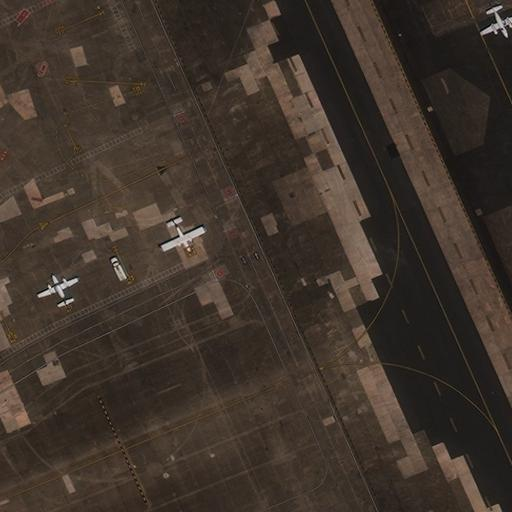Small Civil Transport: (165, 221, 206, 251), (39, 275, 75, 304), (481, 8, 512, 37)
